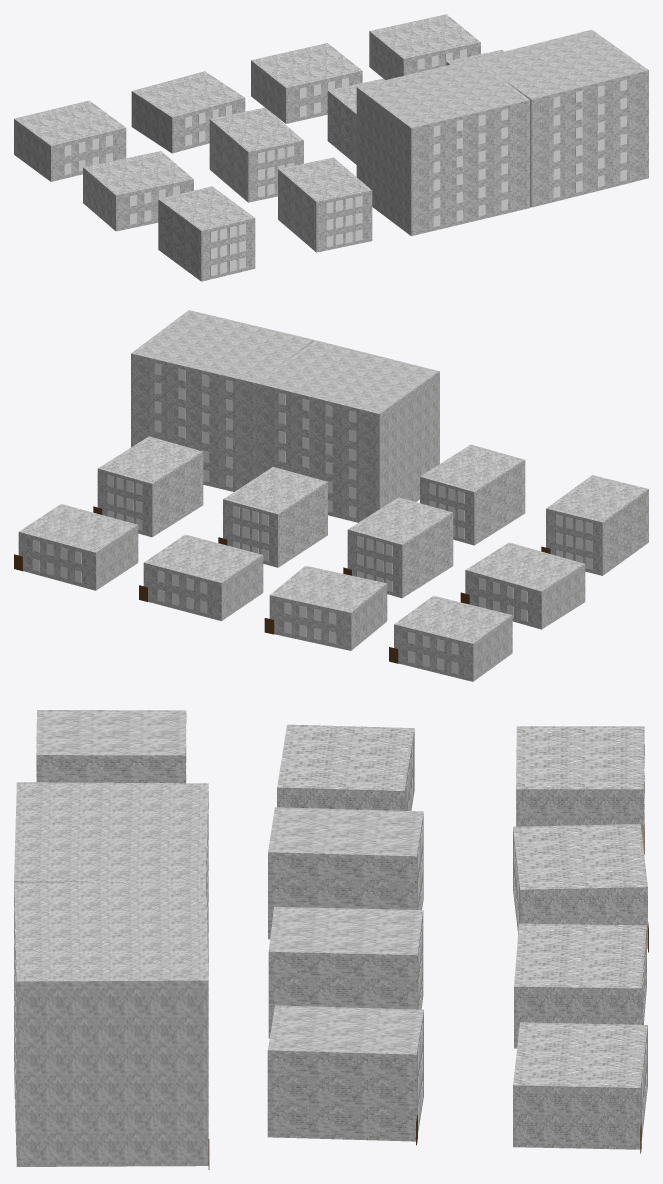
The model's file is bld_mlnex94q_fqcijks.glb.
3 views of the same model, one above another, from view 1: azimuth 30°, elevation 25°; view 2: azimuth 150°, elevation 25°; view 3: azimuth 270°, elevation 25° (orthographic). The views are drawn at different scales.
Parts seen in each view (by area): view 1: building-building-1771139823892-18, building-building-1771139823892-19, building-building-1771139823892-16, building-building-1771139823892-17, building-building-1771139823892-6, building-building-1771139823892-12, building-building-1771139823892-7, building-building-1771139823892-8, building-building-1771139823892-11, building-building-1771139823892-9, building-building-1771139823892-13; view 2: building-building-1771139823892-18, building-building-1771139823892-19, building-building-1771139823892-14, building-building-1771139823892-12, building-building-1771139823892-8, building-building-1771139823892-9, building-building-1771139823892-13, building-building-1771139823892-7, building-building-1771139823892-6, building-building-1771139823892-16, building-building-1771139823892-11, building-building-1771139823892-17; view 3: building-building-1771139823892-19, building-building-1771139823892-14, building-building-1771139823892-18, building-building-1771139823892-9, building-building-1771139823892-13, building-building-1771139823892-12, building-building-1771139823892-7, building-building-1771139823892-8, building-building-1771139823892-6, building-building-1771139823892-11, building-building-1771139823892-16.
Boxes of the visible parts, bbox=[...] form: building-building-1771139823892-18: bbox=[356, 59, 530, 236]; building-building-1771139823892-19: bbox=[475, 29, 648, 207]; building-building-1771139823892-16: bbox=[158, 186, 255, 281]; building-building-1771139823892-17: bbox=[278, 157, 372, 252]; building-building-1771139823892-6: bbox=[14, 100, 126, 181]; building-building-1771139823892-12: bbox=[209, 107, 303, 202]; building-building-1771139823892-7: bbox=[131, 71, 245, 153]; building-building-1771139823892-8: bbox=[251, 43, 362, 123]; building-building-1771139823892-11: bbox=[83, 151, 193, 231]; building-building-1771139823892-9: bbox=[369, 14, 480, 79]; building-building-1771139823892-13: bbox=[327, 78, 384, 164]; building-building-1771139823892-18: bbox=[256, 340, 439, 522]; building-building-1771139823892-19: bbox=[131, 310, 314, 491]; building-building-1771139823892-14: bbox=[93, 436, 203, 537]; building-building-1771139823892-12: bbox=[343, 497, 453, 598]; building-building-1771139823892-8: bbox=[139, 534, 263, 620]; building-building-1771139823892-9: bbox=[14, 504, 138, 590]; building-building-1771139823892-13: bbox=[218, 467, 327, 567]; building-building-1771139823892-7: bbox=[264, 565, 387, 650]; building-building-1771139823892-6: bbox=[389, 595, 512, 681]; building-building-1771139823892-16: bbox=[541, 475, 648, 575]; building-building-1771139823892-11: bbox=[460, 542, 585, 629]; building-building-1771139823892-17: bbox=[420, 444, 525, 545]; building-building-1771139823892-19: bbox=[14, 881, 209, 1169]; building-building-1771139823892-14: bbox=[267, 1005, 423, 1145]; building-building-1771139823892-18: bbox=[14, 782, 208, 975]; building-building-1771139823892-9: bbox=[513, 1022, 647, 1153]; building-building-1771139823892-13: bbox=[268, 906, 423, 1038]; building-building-1771139823892-12: bbox=[268, 807, 423, 939]; building-building-1771139823892-7: bbox=[513, 824, 648, 952]; building-building-1771139823892-8: bbox=[514, 923, 646, 1048]; building-building-1771139823892-6: bbox=[516, 726, 644, 854]; building-building-1771139823892-11: bbox=[277, 724, 414, 810]; building-building-1771139823892-16: bbox=[36, 710, 186, 783].
Bounding box in the file's own units: 85.08 × 19.23 × 59.57.
Materials: 60 (12 with a texture image).
